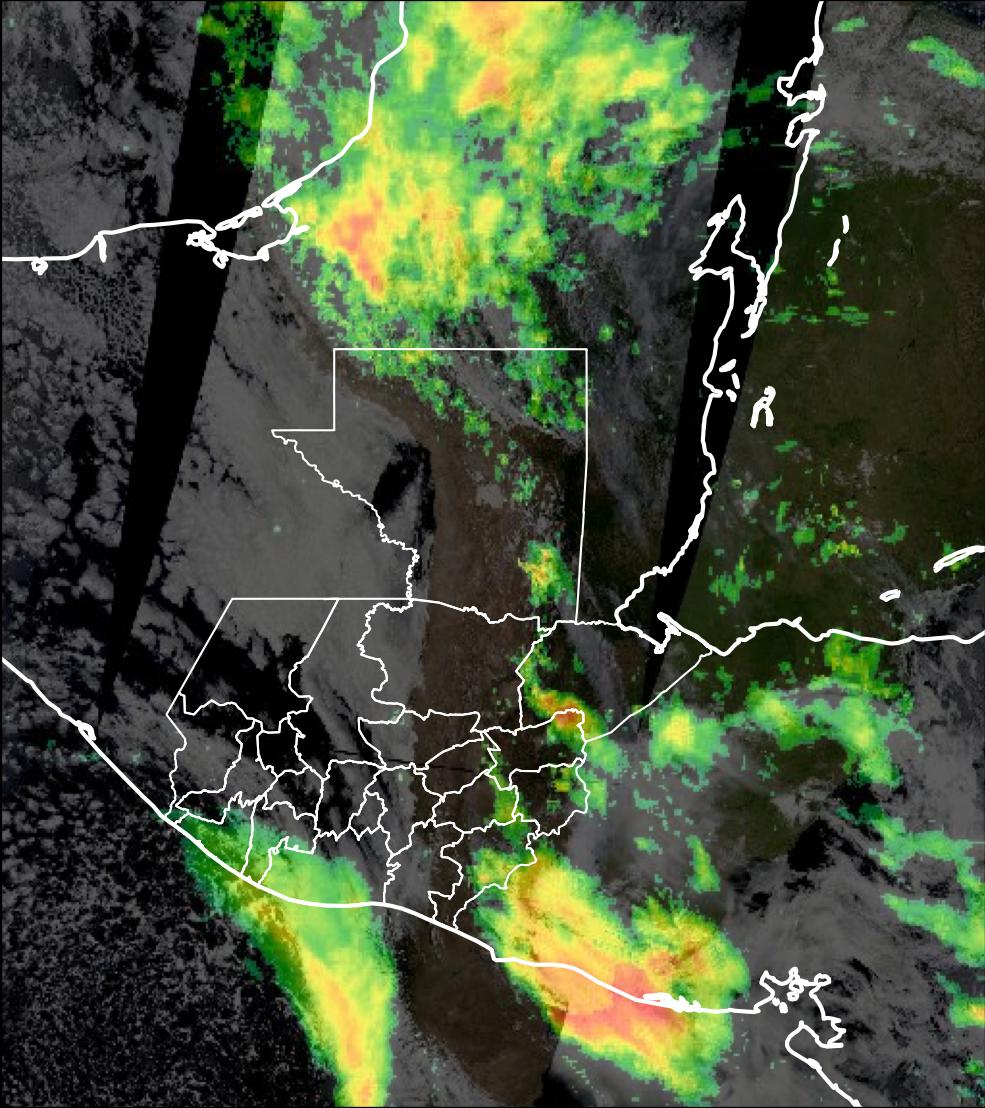precipitacion: (536, 923, 711, 1083), (306, 183, 412, 307)
